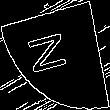N_E: (31, 30, 79, 80)
